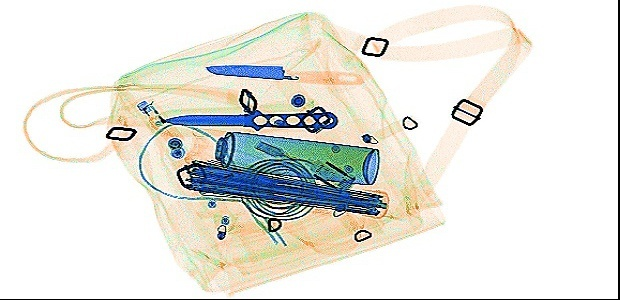knife: (158, 102, 340, 134), (201, 62, 367, 89)
lighter: (133, 94, 186, 148)
pressure: (180, 127, 380, 188)
